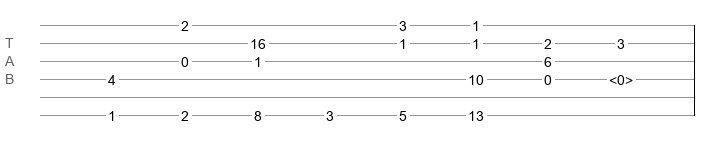0: (181, 54, 189, 64), (544, 72, 552, 82)
1: (108, 108, 116, 118), (254, 54, 262, 64), (399, 36, 407, 46), (472, 36, 480, 46), (472, 18, 480, 28)
10: (468, 72, 484, 82)
13: (468, 108, 484, 118)
16: (250, 36, 266, 46)
2: (181, 18, 189, 28), (181, 108, 189, 118), (544, 36, 552, 46)
3: (326, 108, 334, 118), (399, 18, 407, 28), (617, 36, 625, 46)
4: (108, 72, 116, 82)
5: (399, 108, 407, 118)
6: (544, 54, 552, 64)
8: (254, 108, 262, 118)
harmonic: (609, 72, 633, 82)
